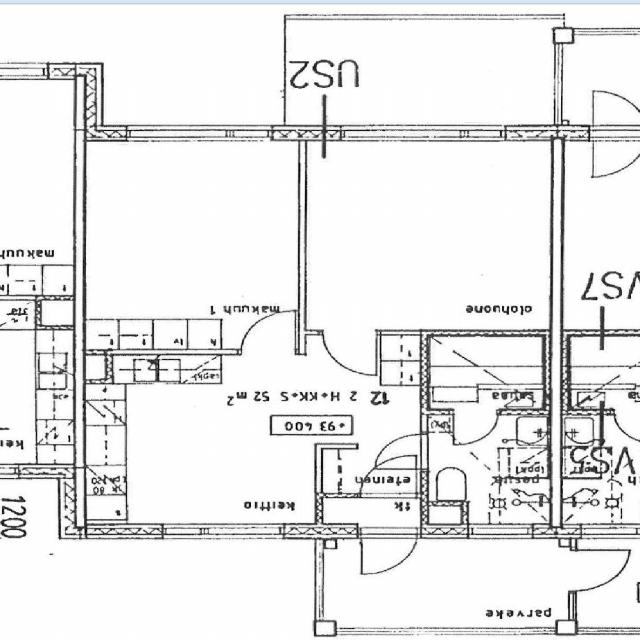door: (361, 524, 416, 579), (361, 452, 416, 498), (241, 309, 295, 355), (322, 330, 376, 376), (375, 434, 428, 468), (453, 409, 496, 447)
